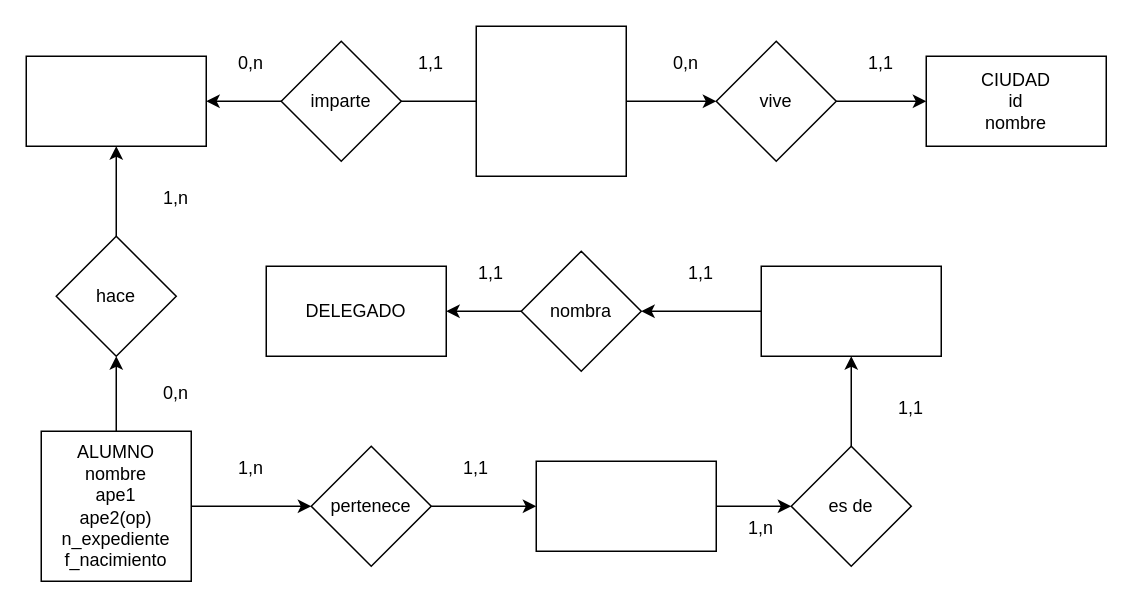
Image size: 1133x608. Some labels were removed from this diagram. The box of each missing label's shape, as (x1, y1, x2, y2) in pixels:
CURSO: (760, 265, 941, 356)
GRUPO: (535, 460, 716, 551)
MODULOS id nombre: (25, 55, 206, 146)
PROFESOR dni nombre ape1 ape2(op) telefono: (475, 25, 626, 176)
